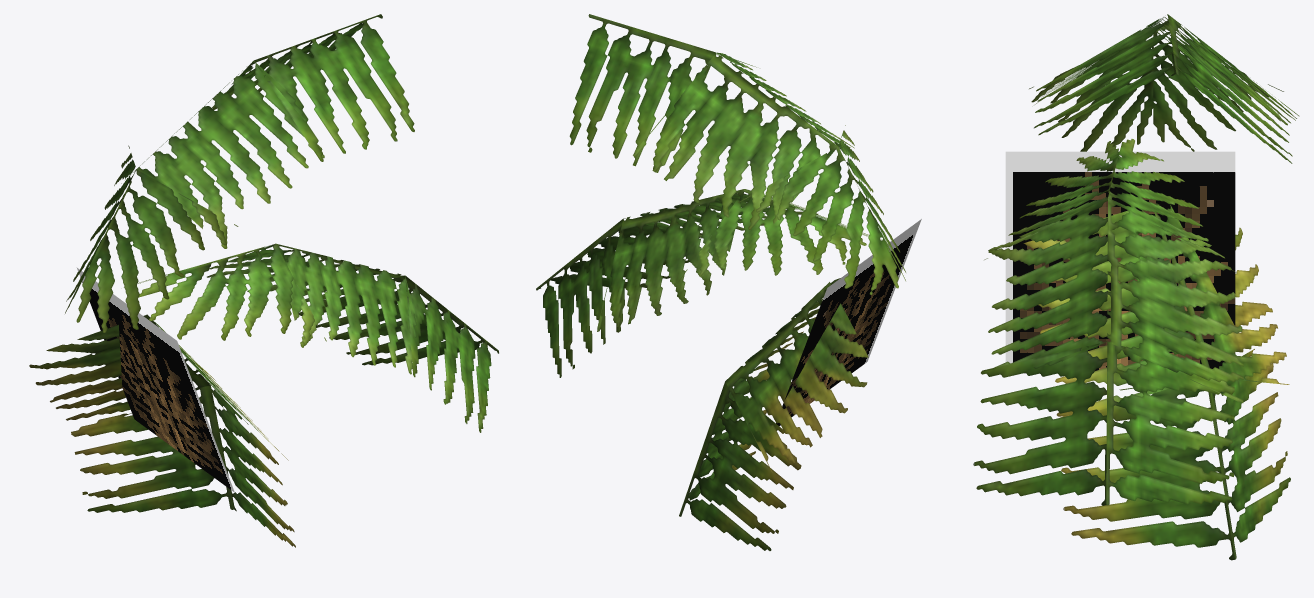
File: caribbean_royal_palm_straight_1.obj
3 views of the same model, side by side, from view 1: azimuth 30°, elevation 25°; view 2: azimuth 150°, elevation 25°; view 3: azimuth 270°, elevation 25° (orthographic). The views are drawn at different scales.
Parts seen in each view (by area): view 1: cube.232; view 2: cube.232; view 3: cube.232.
Part boxes in pixels (x1,y1,x2,y2): cube.232: (29,14,498,547); cube.232: (536,14,921,550); cube.232: (973,14,1299,560).
Bounding box in the file's own units: 3.59 × 4.1 × 2.15.
